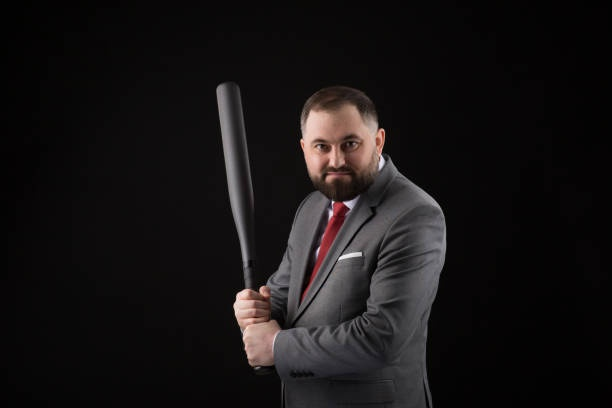bita: (212, 69, 265, 313)
